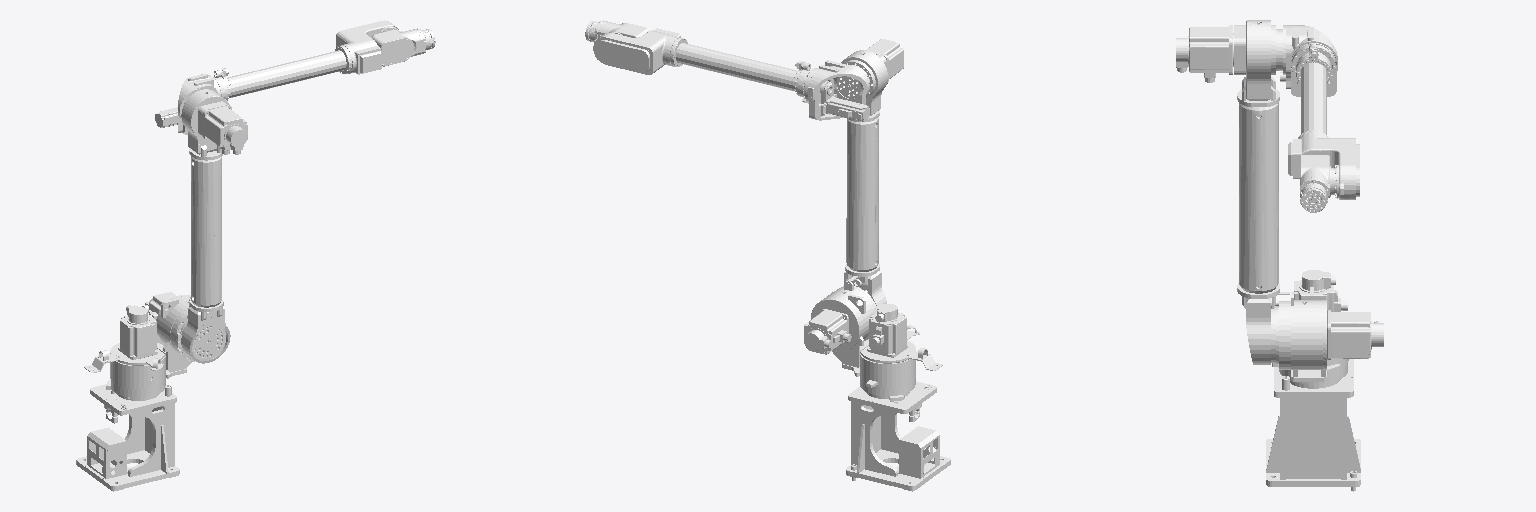
The robot description file, URDF, robot "mr16":
<robot
  name="mr16">
  <link
    name="base_link">
    <inertial>
      <origin
        xyz="0.000538591381669132 -0.000796013390077529 0.15029824506083"
        rpy="0 0 0" />
      <mass
        value="6.20364378504444" />
      <inertia
        ixx="0.101094100523689"
        ixy="0.000446397315981664"
        ixz="-0.0100325796904837"
        iyy="0.107440995037768"
        iyz="0.000684896162437496"
        izz="0.0413625724663002" />
    </inertial>
    <visual>
      <origin
        xyz="0 0 0"
        rpy="0 0 0" />
      <geometry>
        <mesh
          filename="package://mr16/meshes/base_link.STL" />
      </geometry>
      <material
        name="">
        <color
          rgba="1 1 1 1" />
      </material>
    </visual>
    <collision>
      <origin
        xyz="0 0 0"
        rpy="0 0 0" />
      <geometry>
        <mesh
          filename="package://mr16/meshes/base_link.STL" />
      </geometry>
    </collision>
  </link>
  <link
    name="Link_1">
    <inertial>
      <origin
        xyz="0.109499429537614 0.00127734999021857 0.532740739016212"
        rpy="0 0 0" />
      <mass
        value="15.3009110725275" />
      <inertia
        ixx="0.17711171931129"
        ixy="-0.000258217361477095"
        ixz="-0.0902218232079756"
        iyy="0.294532768267818"
        iyz="-0.00138073499002402"
        izz="0.245180049849529" />
    </inertial>
    <visual>
      <origin
        xyz="0 0 0"
        rpy="0 0 0" />
      <geometry>
        <mesh
          filename="package://mr16/meshes/Link_1.STL" />
      </geometry>
      <material
        name="">
        <color
          rgba="1 1 1 1" />
      </material>
    </visual>
    <collision>
      <origin
        xyz="0 0 0"
        rpy="0 0 0" />
      <geometry>
        <mesh
          filename="package://mr16/meshes/Link_1.STL" />
      </geometry>
    </collision>
  </link>
  <joint
    name="Joint_1"
    type="continuous">
    <origin
      xyz="0 0 0"
      rpy="0 0 0" />
    <parent
      link="base_link" />
    <child
      link="Link_1" />
    <axis
      xyz="0 0 1" />
  </joint>
  <link
    name="Link_2">
    <inertial>
      <origin
        xyz="0.219886807756802 -0.207871674679376 1.2514850460622"
        rpy="0 0 0" />
      <mass
        value="12.0089467273936" />
      <inertia
        ixx="1.79000760396687"
        ixy="3.84246474442271E-05"
        ixz="9.97549309592944E-06"
        iyy="1.73265369716045"
        iyz="0.140791163086416"
        izz="0.0577005085656935" />
    </inertial>
    <visual>
      <origin
        xyz="0 0 0"
        rpy="0 0 0" />
      <geometry>
        <mesh
          filename="package://mr16/meshes/Link_2.STL" />
      </geometry>
      <material
        name="">
        <color
          rgba="1 1 1 1" />
      </material>
    </visual>
    <collision>
      <origin
        xyz="0 0 0"
        rpy="0 0 0" />
      <geometry>
        <mesh
          filename="package://mr16/meshes/Link_2.STL" />
      </geometry>
    </collision>
  </link>
  <joint
    name="Joint_2"
    type="continuous">
    <origin
      xyz="0 0 0"
      rpy="0 0 0" />
    <parent
      link="base_link" />
    <child
      link="Link_2" />
    <axis
      xyz="0 1 0" />
  </joint>
  <link
    name="Link_3">
    <inertial>
      <origin
        xyz="0.266867482091816 -0.0222532099032627 1.58643411400742"
        rpy="0 0 0" />
      <mass
        value="3.21027233963961" />
      <inertia
        ixx="0.00353615737545624"
        ixy="-0.00051626040955544"
        ixz="-0.00324001662283138"
        iyy="0.0102408077538544"
        iyz="0.000427334512781598"
        izz="0.00968673804508061" />
    </inertial>
    <visual>
      <origin
        xyz="0 0 0"
        rpy="0 0 0" />
      <geometry>
        <mesh
          filename="package://mr16/meshes/Link_3.STL" />
      </geometry>
      <material
        name="">
        <color
          rgba="1 1 1 1" />
      </material>
    </visual>
    <collision>
      <origin
        xyz="0 0 0"
        rpy="0 0 0" />
      <geometry>
        <mesh
          filename="package://mr16/meshes/Link_3.STL" />
      </geometry>
    </collision>
  </link>
  <joint
    name="Joint_3"
    type="continuous">
    <origin
      xyz="0 0 0"
      rpy="0 0 0" />
    <parent
      link="base_link" />
    <child
      link="Link_3" />
    <axis
      xyz="0 1 0" />
  </joint>
  <link
    name="Link_4">
    <inertial>
      <origin
        xyz="0.919787085547004 0.0306696509349129 1.6119541524158"
        rpy="0 0 0" />
      <mass
        value="4.00043599724926" />
      <inertia
        ixx="0.00510345079441045"
        ixy="-0.0257992257133259"
        ixz="0.00187640494975463"
        iyy="0.206864532590508"
        iyz="0.000109210284202082"
        izz="0.211424860974067" />
    </inertial>
    <visual>
      <origin
        xyz="0 0 0"
        rpy="0 0 0" />
      <geometry>
        <mesh
          filename="package://mr16/meshes/Link_4.STL" />
      </geometry>
      <material
        name="">
        <color
          rgba="1 1 1 1" />
      </material>
    </visual>
    <collision>
      <origin
        xyz="0 0 0"
        rpy="0 0 0" />
      <geometry>
        <mesh
          filename="package://mr16/meshes/Link_4.STL" />
      </geometry>
    </collision>
  </link>
  <joint
    name="Joint_4"
    type="continuous">
    <origin
      xyz="0 0 0"
      rpy="0 0 0" />
    <parent
      link="base_link" />
    <child
      link="Link_4" />
    <axis
      xyz="1 0 0" />
  </joint>
  <link
    name="Link_5">
    <inertial>
      <origin
        xyz="1.24726207493842 0.00398164304608598 1.61072250218365"
        rpy="0 0 0" />
      <mass
        value="1.34975711386351" />
      <inertia
        ixx="0.000123563116879519"
        ixy="0.000124368464115509"
        ixz="-9.10870027349633E-06"
        iyy="0.00325626508614178"
        iyz="-5.73452233676735E-06"
        izz="0.00334973580960724" />
    </inertial>
    <visual>
      <origin
        xyz="0 0 0"
        rpy="0 0 0" />
      <geometry>
        <mesh
          filename="package://mr16/meshes/Link_5.STL" />
      </geometry>
      <material
        name="">
        <color
          rgba="1 1 1 1" />
      </material>
    </visual>
    <collision>
      <origin
        xyz="0 0 0"
        rpy="0 0 0" />
      <geometry>
        <mesh
          filename="package://mr16/meshes/Link_5.STL" />
      </geometry>
    </collision>
  </link>
  <joint
    name="Joint_5"
    type="continuous">
    <origin
      xyz="0 0 0"
      rpy="0 0 0" />
    <parent
      link="base_link" />
    <child
      link="Link_5" />
    <axis
      xyz="0 1 0" />
  </joint>
  <link
    name="Link_6">
    <inertial>
      <origin
        xyz="1.37476419177093 -0.000229887479472446 1.61133668265096"
        rpy="0 0 0" />
      <mass
        value="0.0508989989285404" />
      <inertia
        ixx="1.06805156907221E-06"
        ixy="-1.43984584294168E-07"
        ixz="4.40810732640226E-08"
        iyy="1.22508869624082E-07"
        iyz="2.96931336038133E-07"
        izz="1.00197247383026E-06" />
    </inertial>
    <visual>
      <origin
        xyz="0 0 0"
        rpy="0 0 0" />
      <geometry>
        <mesh
          filename="package://mr16/meshes/Link_6.STL" />
      </geometry>
      <material
        name="">
        <color
          rgba="1 1 1 1" />
      </material>
    </visual>
    <collision>
      <origin
        xyz="0 0 0"
        rpy="0 0 0" />
      <geometry>
        <mesh
          filename="package://mr16/meshes/Link_6.STL" />
      </geometry>
    </collision>
  </link>
  <joint
    name="Joint_6"
    type="continuous">
    <origin
      xyz="0 0 0"
      rpy="0 0 0" />
    <parent
      link="base_link" />
    <child
      link="Link_6" />
    <axis
      xyz="1 0 0" />
  </joint>
</robot>

--- Render facts (derived) ---
3 views of the same robot in one strip: view 1: azimuth 30°, elevation 25°; view 2: azimuth 150°, elevation 25°; view 3: azimuth 270°, elevation 25° (orthographic).
Model mr16 with 7 links and 6 joints (6 continuous), rooted at base_link, posed all joints at 0.
Visible links, largest first — view 1: Link_2, base_link, Link_1, Link_4, Link_5, Link_3; view 2: Link_1, Link_2, base_link, Link_4, Link_3, Link_5; view 3: Link_2, base_link, Link_1, Link_4, Link_3, Link_5.
Boxes of the visible links, bbox=[...] form: Link_2: bbox=[181, 89, 247, 363]; base_link: bbox=[76, 384, 179, 491]; Link_1: bbox=[84, 292, 194, 400]; Link_4: bbox=[214, 20, 403, 100]; Link_5: bbox=[372, 28, 432, 66]; Link_3: bbox=[155, 74, 222, 134]; Link_1: bbox=[804, 276, 942, 403]; Link_2: bbox=[841, 39, 903, 307]; base_link: bbox=[846, 381, 950, 491]; Link_4: bbox=[593, 28, 810, 96]; Link_3: bbox=[801, 60, 869, 121]; Link_5: bbox=[588, 20, 649, 41]; Link_2: bbox=[1176, 20, 1282, 364]; base_link: bbox=[1266, 359, 1360, 491]; Link_1: bbox=[1271, 270, 1383, 388]; Link_4: bbox=[1288, 44, 1359, 199]; Link_3: bbox=[1280, 25, 1337, 96]; Link_5: bbox=[1300, 155, 1330, 206].
Bounding box of the posed robot: 1.62 × 0.6745 × 1.74 m (x, y, z).
7 mesh visuals loaded from 7 distinct referenced files (7 binary STL).